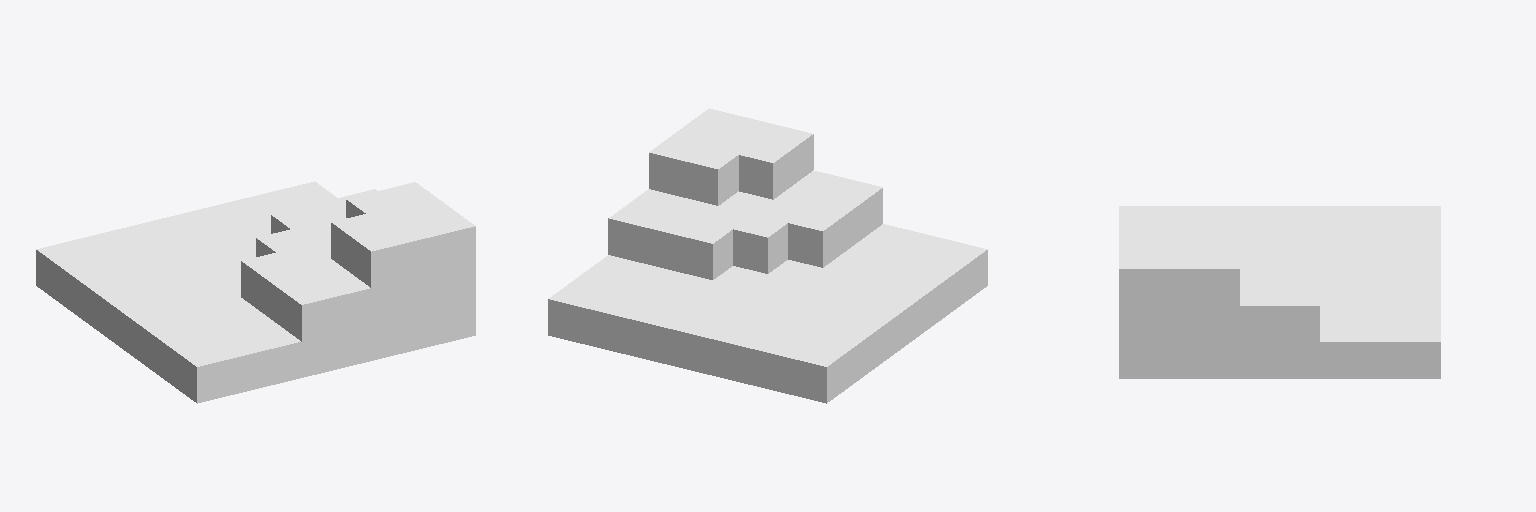
The model's file is beach_corner.obj.
3 views of the same model, side by side, from view 1: azimuth 30°, elevation 25°; view 2: azimuth 150°, elevation 25°; view 3: azimuth 270°, elevation 25° (orthographic).
Parts seen in each view (by area): view 1: object 1; view 2: object 1; view 3: object 1.
Boxes of the visible parts, <box> form: object 1: <box>36,181,475,403</box>; object 1: <box>548,108,987,403</box>; object 1: <box>1119,206,1440,378</box>.
Bounding box in the file's own units: 0.8 × 0.3 × 0.8.